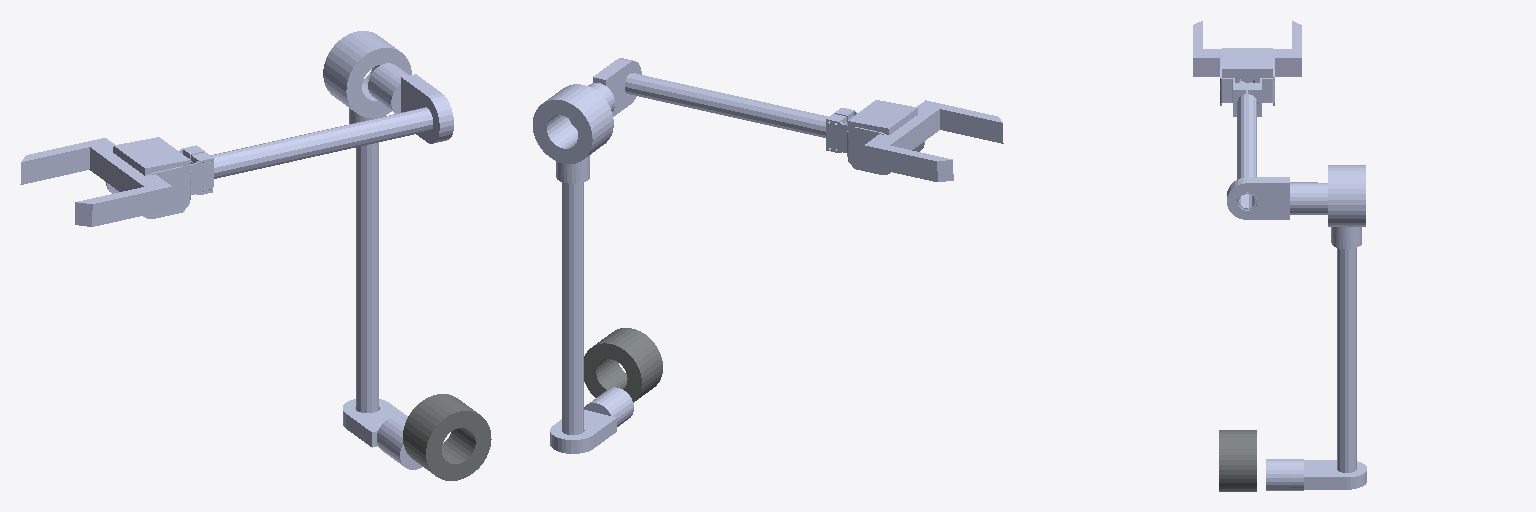
robot.urdf — arm_ik:
<?xml version="1.0" encoding="utf-8"?>
<!-- This URDF was automatically created by SolidWorks to URDF Exporter! Originally created by [author] ([email redacted]) 
     Commit Version: 1.6.0-4-g7f85cfe  Build Version: 1.6.7995.38578
     For more information, please see http://wiki.ros.org/sw_urdf_exporter -->
<robot
  name="arm_ik">
  <link
    name="base_link">
    <inertial>
      <origin
        xyz="2.53269627492614E-16 0.0351875 -1.11022302462516E-16"
        rpy="0 0 0" />
      <mass
        value="4.15068574213693" />
      <inertia
        ixx="0.00607844500433802"
        ixy="1.85209295977699E-17"
        ixz="-6.46688986627396E-32"
        iyy="0.00873074753732344"
        iyz="-9.26046479888497E-18"
        izz="0.00607844500433802" />
    </inertial>
    <visual>
      <origin
        xyz="0 0 0"
        rpy="0 0 0" />
      <geometry>
        <mesh
          filename="package://arm_ik/meshes/base_link.STL" />
      </geometry>
      <material
        name="">
        <color
          rgba="0.529411764705882 0.549019607843137 0.549019607843137 1" />
      </material>
    </visual>
    <collision>
      <origin
        xyz="0 0 0"
        rpy="0 0 0" />
      <geometry>
        <mesh
          filename="package://arm_ik/meshes/base_link.STL" />
      </geometry>
    </collision>
  </link>
  <link
    name="link_1">
    <inertial>
      <origin
        xyz="0.00913903826427467 0.143596276436171 0.505157126375766"
        rpy="0 0 0" />
      <mass
        value="5.22444423373266" />
      <inertia
        ixx="0.0134204953846618"
        ixy="5.38443111287158E-09"
        ixz="-0.000103653683610403"
        iyy="0.0151077188989124"
        iyz="-1.54816987598609E-11"
        izz="0.00769284881515961" />
    </inertial>
    <visual>
      <origin
        xyz="0 0 0"
        rpy="0 0 0" />
      <geometry>
        <mesh
          filename="package://arm_ik/meshes/link_1.STL" />
      </geometry>
      <material
        name="">
        <color
          rgba="0.796078431372549 0.823529411764706 0.937254901960784 1" />
      </material>
    </visual>
    <collision>
      <origin
        xyz="0 0 0"
        rpy="0 0 0" />
      <geometry>
        <mesh
          filename="package://arm_ik/meshes/link_1.STL" />
      </geometry>
    </collision>
  </link>
  <joint
    name="joint_1"
    type="revolute">
    <origin
      xyz="0 0 0"
      rpy="0 0 0" />
    <parent
      link="base_link" />
    <child
      link="link_1" />
    <axis
      xyz="0 1 0" />
    <limit
      lower="-1.5707"
      upper="1.5707"
      effort="63"
      velocity="10" />
  </joint>
  <link
    name="link_2">
    <inertial>
      <origin
        xyz="-0.16137559642837 -0.110140432468285 0.00542393546318531"
        rpy="0 0 0" />
      <mass
        value="0.811667223501401" />
      <inertia
        ixx="0.00144414431881605"
        ixy="1.25940678882426E-17"
        ixz="8.9791156389498E-05"
        iyy="0.0031959981466132"
        iyz="2.88089231344585E-18"
        izz="0.0041126370562478" />
    </inertial>
    <visual>
      <origin
        xyz="0 0 0"
        rpy="0 0 0" />
      <geometry>
        <mesh
          filename="package://arm_ik/meshes/link_2.STL" />
      </geometry>
      <material
        name="">
        <color
          rgba="0.796078431372549 0.823529411764706 0.937254901960784 1" />
      </material>
    </visual>
    <collision>
      <origin
        xyz="0 0 0"
        rpy="0 0 0" />
      <geometry>
        <mesh
          filename="package://arm_ik/meshes/link_2.STL" />
      </geometry>
    </collision>
  </link>
  <joint
    name="joint_2"
    type="revolute">
    <origin
      xyz="0.010339 0.11456 0.57151"
      rpy="0 0 0" />
    <parent
      link="link_1" />
    <child
      link="link_2" />
    <axis
      xyz="0 1 0" />
    <limit
      lower="4.75238898038"
      upper="7.8539"
      effort="30"
      velocity="10" />
  </joint>
  <link
    name="link_3">
    <inertial>
      <origin
        xyz="-3.33066907387547E-16 0.00935030615849575 -5.93275428784068E-16"
        rpy="0 0 0" />
      <mass
        value="0.441934179484334" />
      <inertia
        ixx="0.000580602286707567"
        ixy="-3.21872519956634E-20"
        ixz="3.87638560027459E-19"
        iyy="0.000491950663175557"
        iyz="2.11359024658322E-20"
        izz="0.000361938719156182" />
    </inertial>
    <visual>
      <origin
        xyz="0 0 0"
        rpy="0 0 0" />
      <geometry>
        <mesh
          filename="package://arm_ik/meshes/link_3.STL" />
      </geometry>
      <material
        name="">
        <color
          rgba="0.792156862745098 0.819607843137255 0.933333333333333 1" />
      </material>
    </visual>
    <collision>
      <origin
        xyz="0 0 0"
        rpy="0 0 0" />
      <geometry>
        <mesh
          filename="package://arm_ik/meshes/link_3.STL" />
      </geometry>
    </collision>
  </link>
  <joint
    name="joint_3"
    type="revolute">
    <origin
      xyz="-0.50747 -0.14975 0.017051"
      rpy="1.5708 -1.5372 0" />
    <parent
      link="link_2" />
    <child
      link="link_3" />
    <axis
      xyz="0 0 -1" />
    <limit
      lower="-2.3561"
      upper="2.3561"
      effort="24"
      velocity="3" />
  </joint>
  <link
    name="link_4">
    <inertial>
      <origin
        xyz="0.00311553799336861 -0.0926950194464806 7.35522753814166E-16"
        rpy="0 0 0" />
      <mass
        value="0.475602149431558" />
      <inertia
        ixx="0.00323587514277908"
        ixy="2.679830226239E-05"
        ixz="-3.77872688441353E-06"
        iyy="0.00243945957500459"
        iyz="-1.27005390853154E-07"
        izz="0.000910823791391019" />
    </inertial>
    <visual>
      <origin
        xyz="0 0 0"
        rpy="0 0 0" />
      <geometry>
        <mesh
          filename="package://arm_ik/meshes/link_4.STL" />
      </geometry>
      <material
        name="">
        <color
          rgba="0.792156862745098 0.819607843137255 0.933333333333333 1" />
      </material>
    </visual>
    <collision>
      <origin
        xyz="0 0 0"
        rpy="0 0 0" />
      <geometry>
        <mesh
          filename="package://arm_ik/meshes/link_4.STL" />
      </geometry>
    </collision>
  </link>
  <joint
    name="joint_4"
    type="revolute">
    <origin
      xyz="0 0 0"
      rpy="3.1416 0 0.033598" />
    <parent
      link="link_3" />
    <child
      link="link_4" />
    <axis
      xyz="0.0 -1.0 0" />
    <limit
      lower="-3.14"
      upper="3.14"
      effort="0"
      velocity="0" />
  </joint>
</robot>

--- Facts derived from the render (not from the file) ---
3 views of the same robot in one strip: view 1: azimuth 30°, elevation 25°; view 2: azimuth 150°, elevation 25°; view 3: azimuth 270°, elevation 25° (orthographic).
Model arm_ik with 5 links and 4 joints (4 revolute), rooted at base_link, posed joints at zero except 1 at the middle of their limits (joint_2 = 6.3).
Links seen in each view (by area): view 1: link_1, link_2, link_4, base_link, link_3; view 2: link_1, link_2, link_4, base_link, link_3; view 3: link_1, link_2, base_link, link_4, link_3.
Boxes of the visible links, <box> form: link_1: <box>323,31,422,469</box>; link_2: <box>106,63,453,218</box>; link_4: <box>20,138,171,226</box>; base_link: <box>403,394,491,480</box>; link_3: <box>113,137,190,180</box>; link_1: <box>533,84,633,453</box>; link_2: <box>569,58,924,174</box>; link_4: <box>864,100,1003,181</box>; base_link: <box>584,328,662,402</box>; link_3: <box>847,100,917,141</box>; link_1: <box>1266,165,1366,490</box>; link_2: <box>1220,56,1327,219</box>; base_link: <box>1219,430,1256,491</box>; link_4: <box>1193,21,1301,76</box>; link_3: <box>1222,48,1272,88</box>.
Size in the robot's own frame: 0.7477 by 0.3246 by 0.6602 metres.
Meshes: 5 distinct files referenced, 5 mesh visuals loaded (5 binary STL).